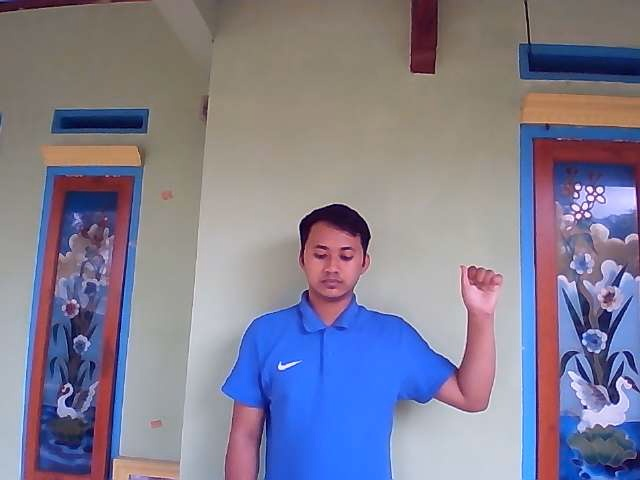A: (459, 263, 505, 314)
